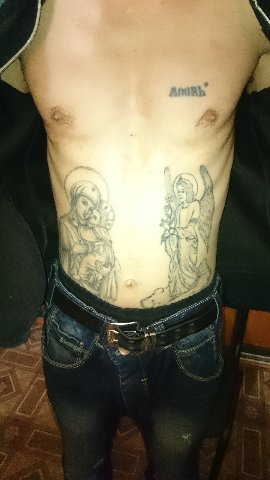tatu1_angel: (158, 163, 213, 291)
tatu2_bogorodica: (55, 165, 121, 304)
tatu3_bukva: (165, 81, 213, 98)
